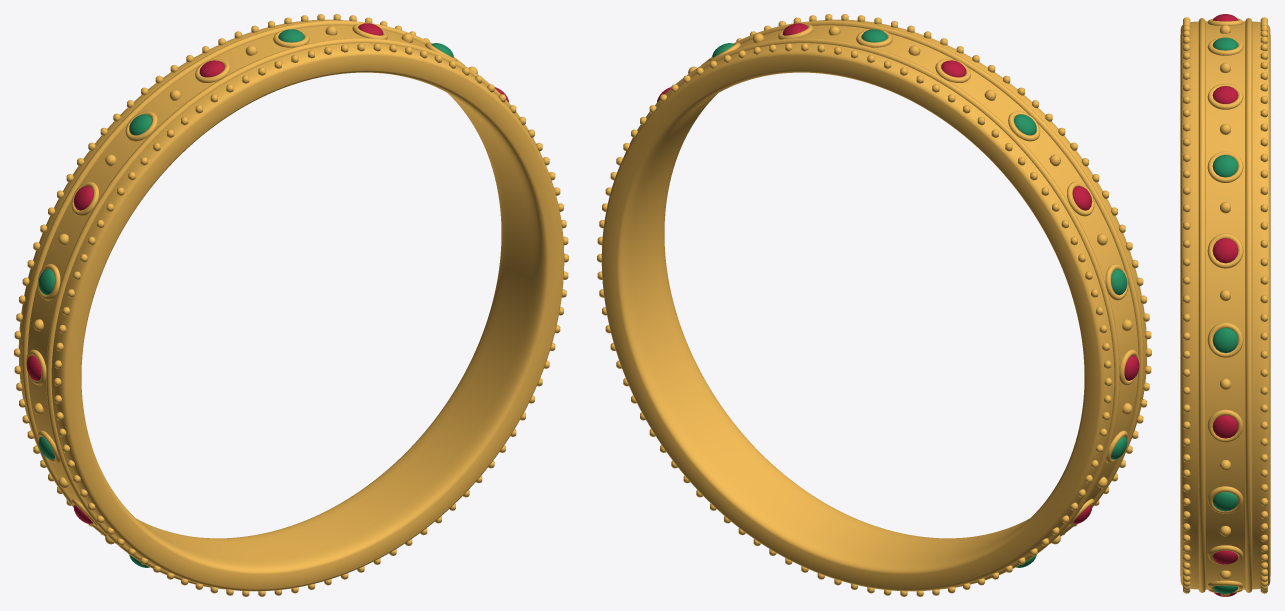
Rendered from traditional-bangle.glb.
3 views of the same model, side by side, from view 1: azimuth 30°, elevation 25°; view 2: azimuth 150°, elevation 25°; view 3: azimuth 270°, elevation 25° (orthographic). The views are drawn at different scales.
Visible parts, largest first — view 1: metal, emerald-cabochon, ruby-cabochon; view 2: metal, emerald-cabochon, ruby-cabochon; view 3: metal, ruby-cabochon, emerald-cabochon.
Boxes of the visible parts, box(x1,y1,x2,y2) form: metal: box(14, 14, 568, 596); emerald-cabochon: box(38, 29, 453, 567); ruby-cabochon: box(26, 23, 508, 523); metal: box(597, 14, 1151, 596); emerald-cabochon: box(712, 29, 1127, 567); ruby-cabochon: box(657, 23, 1139, 523); metal: box(1180, 17, 1270, 596); ruby-cabochon: box(1212, 14, 1238, 596); emerald-cabochon: box(1212, 37, 1238, 593).
Size of the model in its own units: 7.56 by 7.56 by 1.16.
